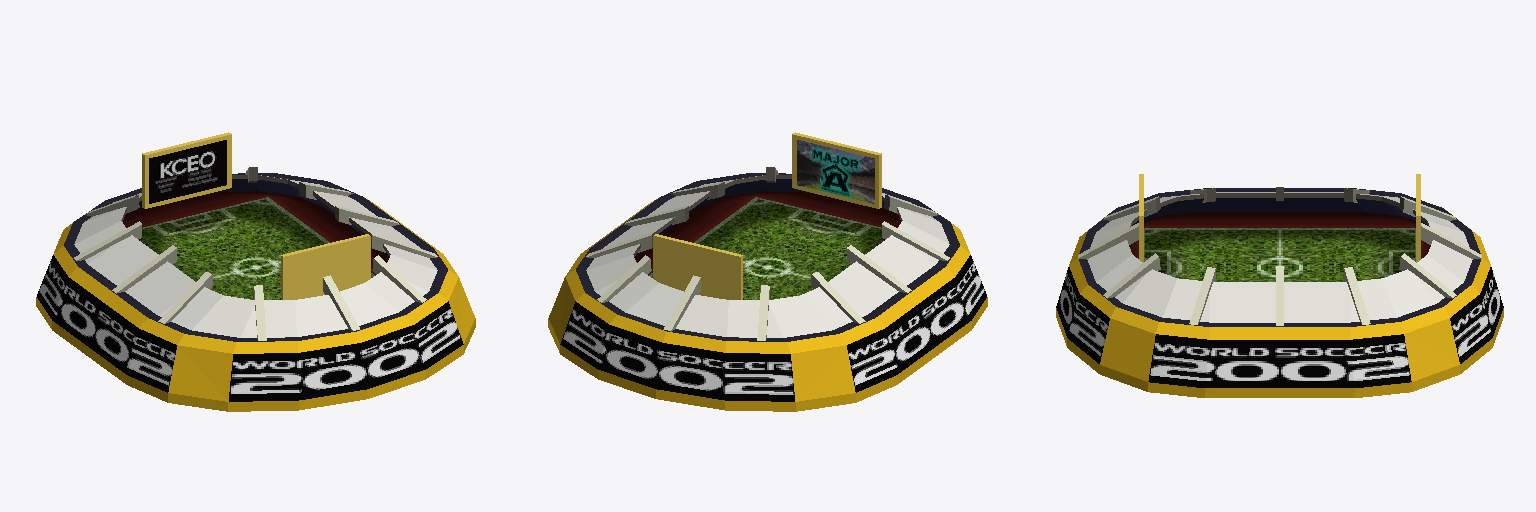
3 renders of one model, left to right at view 1: azimuth 30°, elevation 25°; view 2: azimuth 150°, elevation 25°; view 3: azimuth 270°, elevation 25°, orthographic.
Bounding box in the file's own units: 4.37 × 1.54 × 5.09.
1 materials, 1 textured.